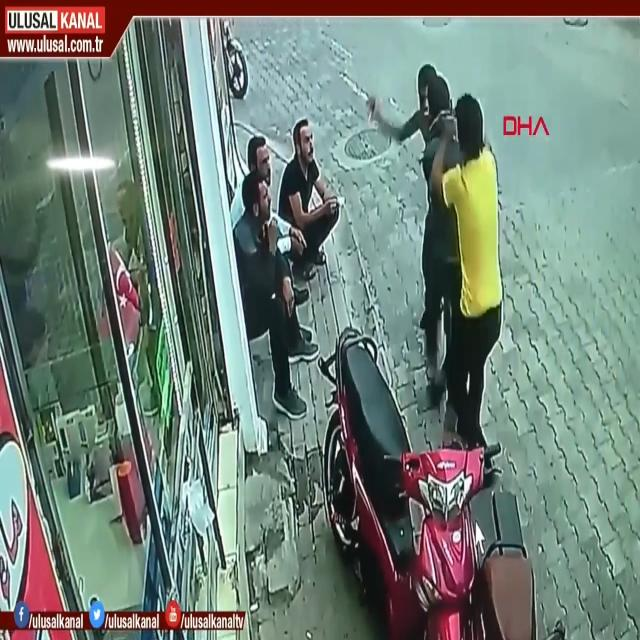fight: (366, 56, 469, 408)
